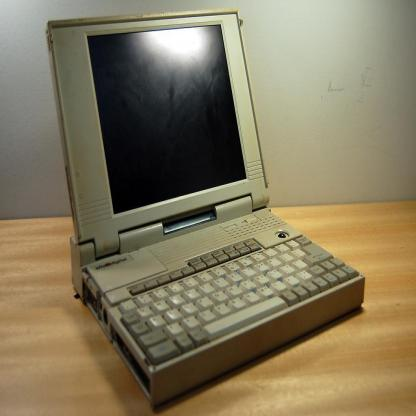board: (46, 8, 366, 408)
